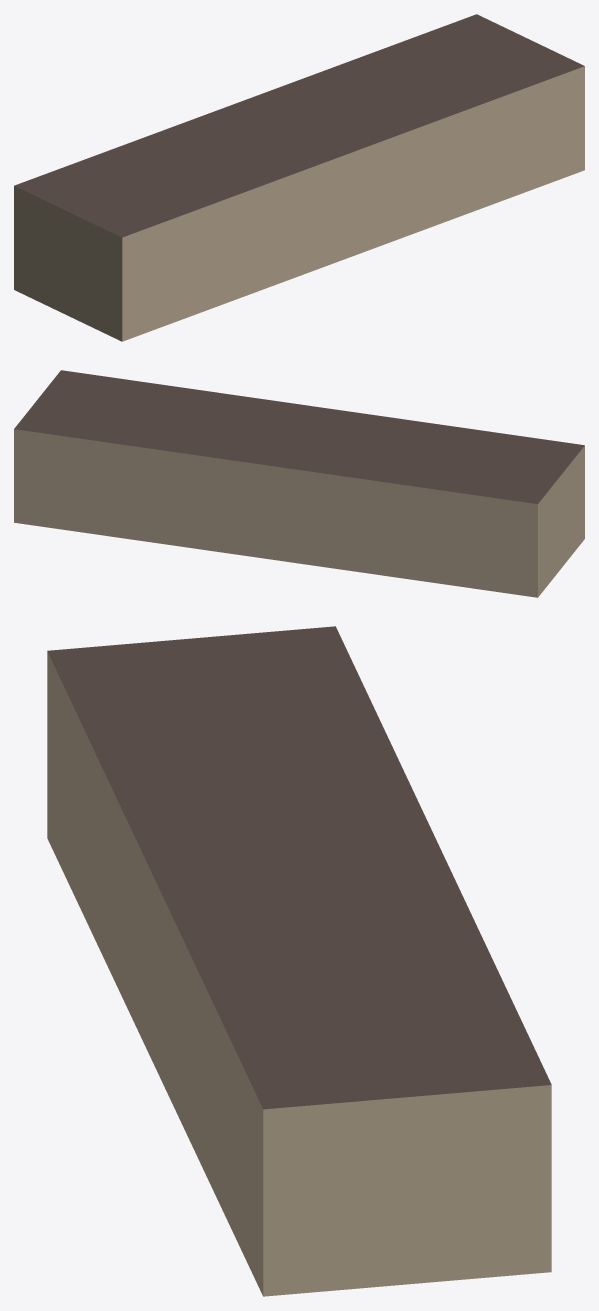
The picture shows the model from 3 angles, top to bottom: view 1: azimuth 30°, elevation 25°; view 2: azimuth 150°, elevation 25°; view 3: azimuth 270°, elevation 25°; orthographic projection. The views are drawn at different scales.
Visible parts, largest first — view 1: HP-w859488619; view 2: HP-w859488619; view 3: HP-w859488619.
Boxes of the visible parts, x1,y1,x2,y2 form: HP-w859488619: [14, 14, 584, 341]; HP-w859488619: [14, 370, 584, 597]; HP-w859488619: [47, 626, 551, 1296].
Bounding box in the file's own units: 49.81 × 9 × 21.99.
